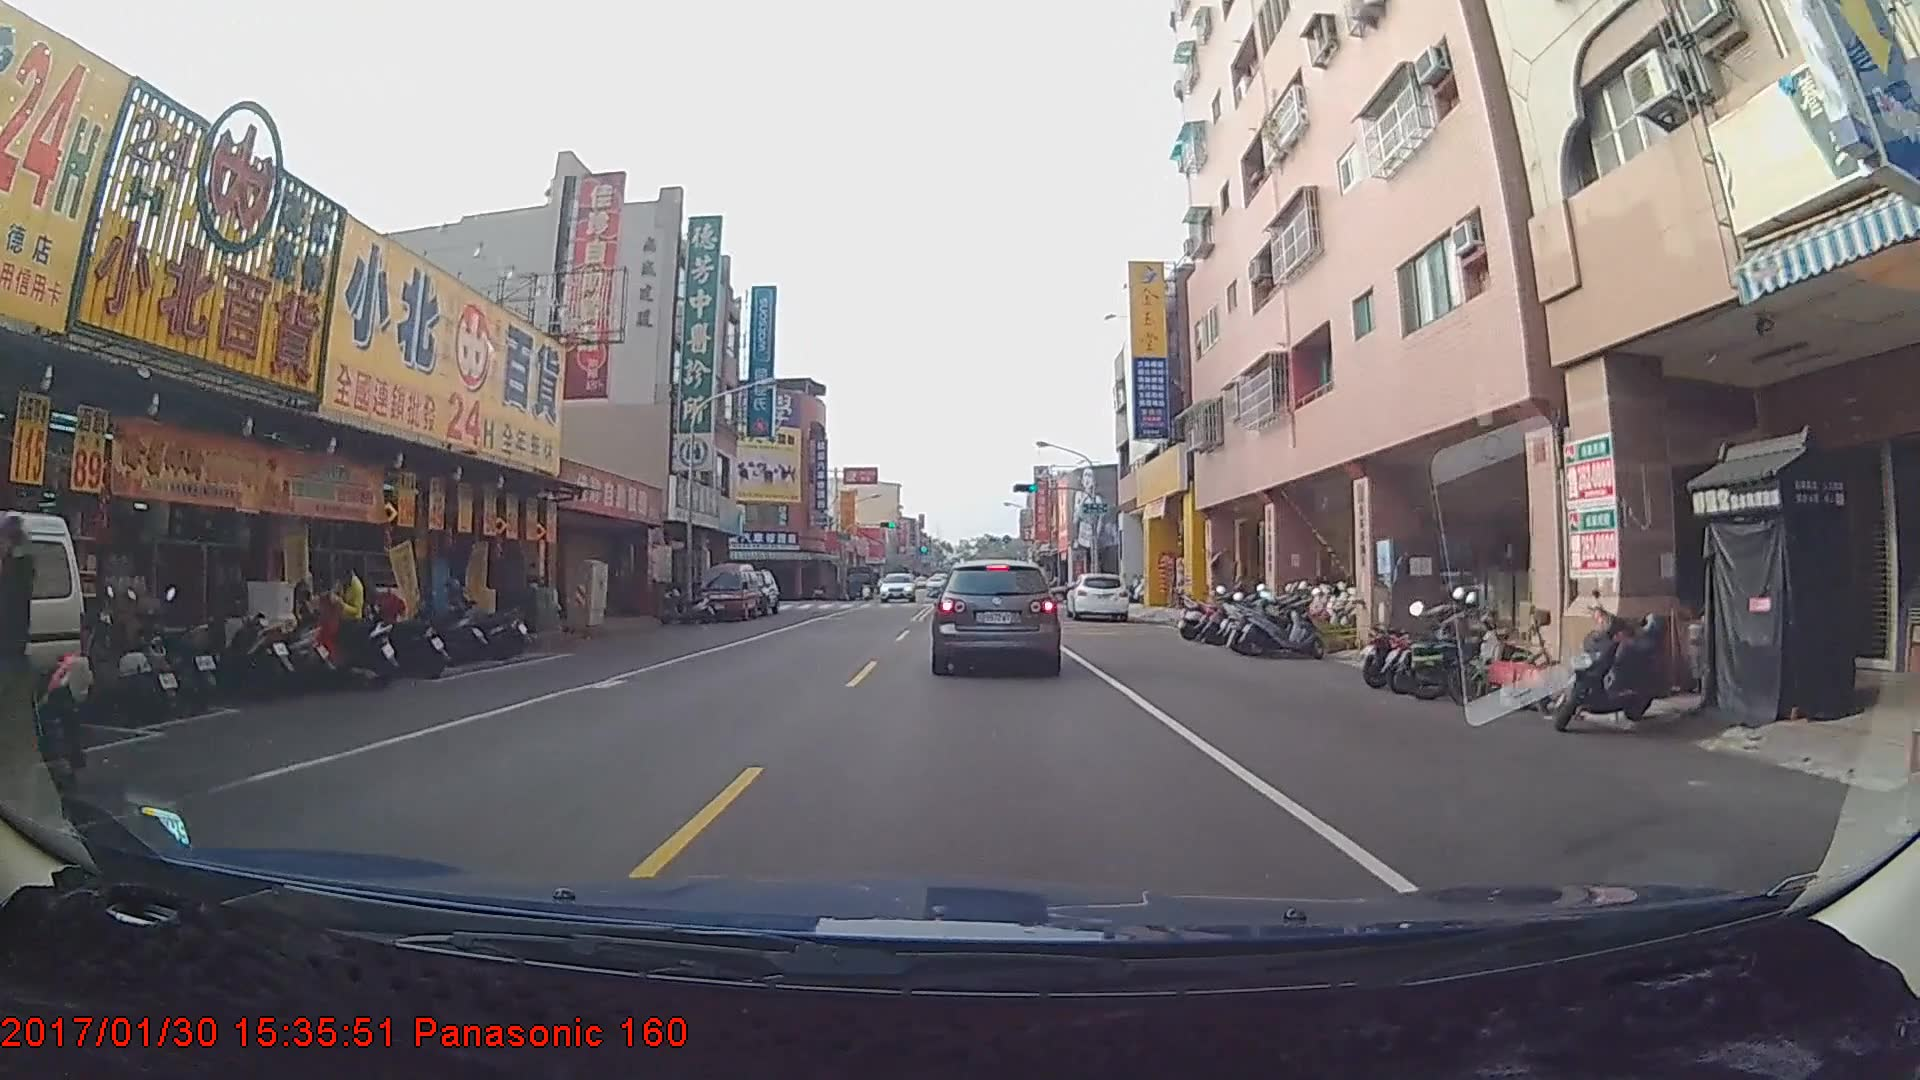pedestrian: (321, 557, 369, 662)
rider: (0, 524, 95, 830)
vehicle: (933, 556, 1060, 675), (699, 564, 759, 626), (1067, 571, 1130, 622), (875, 565, 919, 603)
